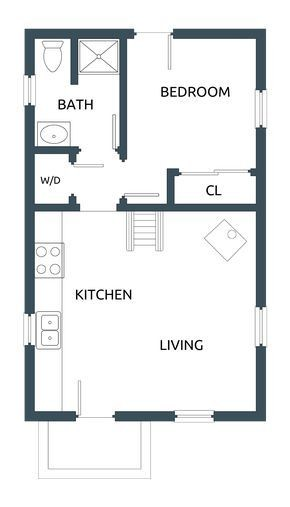room: (27, 209, 266, 423), (127, 32, 264, 210), (24, 31, 124, 162), (32, 152, 127, 211)
wall: (241, 128, 274, 310), (17, 107, 40, 315), (113, 196, 269, 216), (11, 344, 48, 427), (112, 27, 132, 162), (21, 22, 136, 45), (246, 19, 282, 90), (175, 24, 275, 46), (109, 403, 180, 432), (248, 346, 273, 425), (213, 404, 273, 431), (19, 403, 78, 428), (28, 141, 82, 166), (26, 194, 83, 216), (162, 165, 184, 211), (66, 32, 83, 87), (19, 29, 39, 74)
window: (8, 73, 44, 108), (171, 402, 217, 429), (249, 306, 277, 349), (249, 87, 272, 127)
